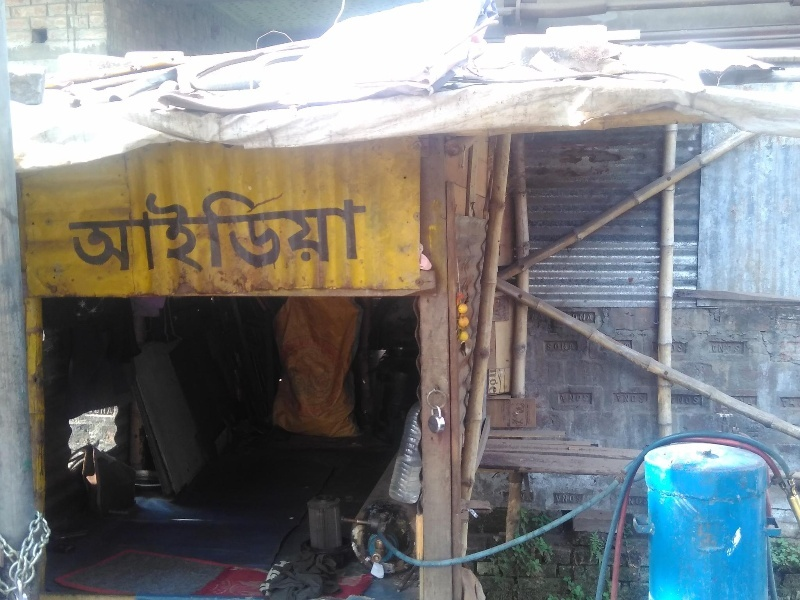text: (465, 301, 480, 415), (481, 301, 496, 415), (497, 301, 512, 415), (513, 301, 528, 415), (529, 301, 544, 415), (545, 301, 560, 415), (561, 301, 576, 415), (577, 301, 592, 415), (593, 301, 608, 415), (609, 301, 624, 415), (625, 301, 640, 415), (641, 301, 656, 415), (657, 301, 672, 415), (673, 301, 688, 415), (689, 301, 704, 415), (705, 301, 720, 415), (721, 301, 736, 415), (737, 301, 752, 415), (753, 301, 768, 415), (769, 301, 781, 415), (65, 189, 80, 279), (81, 189, 96, 279), (97, 189, 112, 279), (113, 189, 128, 279), (129, 189, 144, 279), (145, 189, 160, 279), (161, 189, 176, 279), (177, 189, 192, 279), (193, 189, 208, 279), (209, 189, 224, 279), (225, 189, 240, 279), (241, 189, 256, 279), (257, 189, 272, 279), (273, 189, 288, 279), (289, 189, 304, 279), (305, 189, 320, 279), (321, 189, 336, 279), (337, 189, 352, 279), (353, 189, 368, 279), (456, 301, 464, 415)
